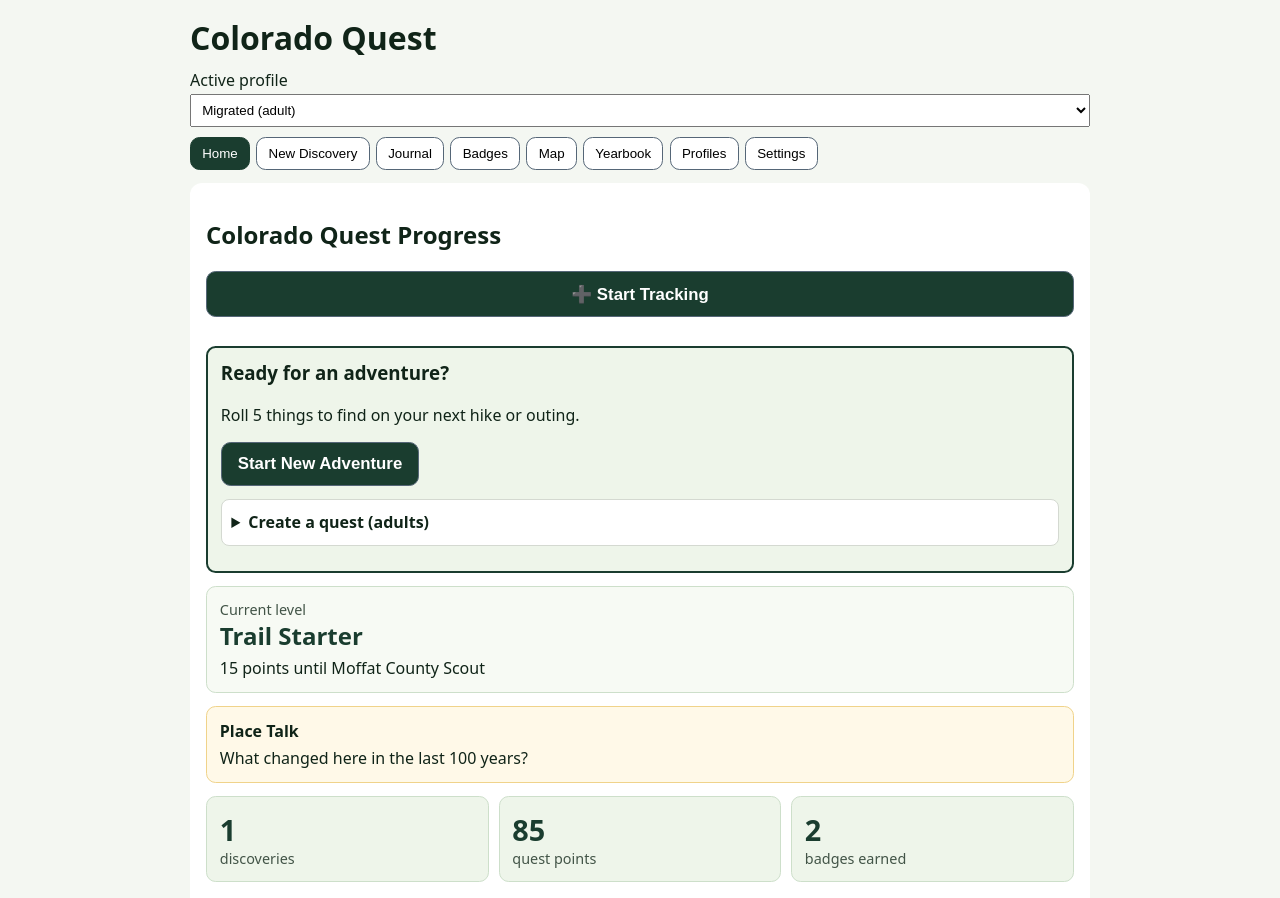
Test: storage › migrates legacy localStorage data into IndexedDB on first load
Legacy data is visible in the app…
Click the button "Journal". click: (410, 153)
box: [376,137,444,170]
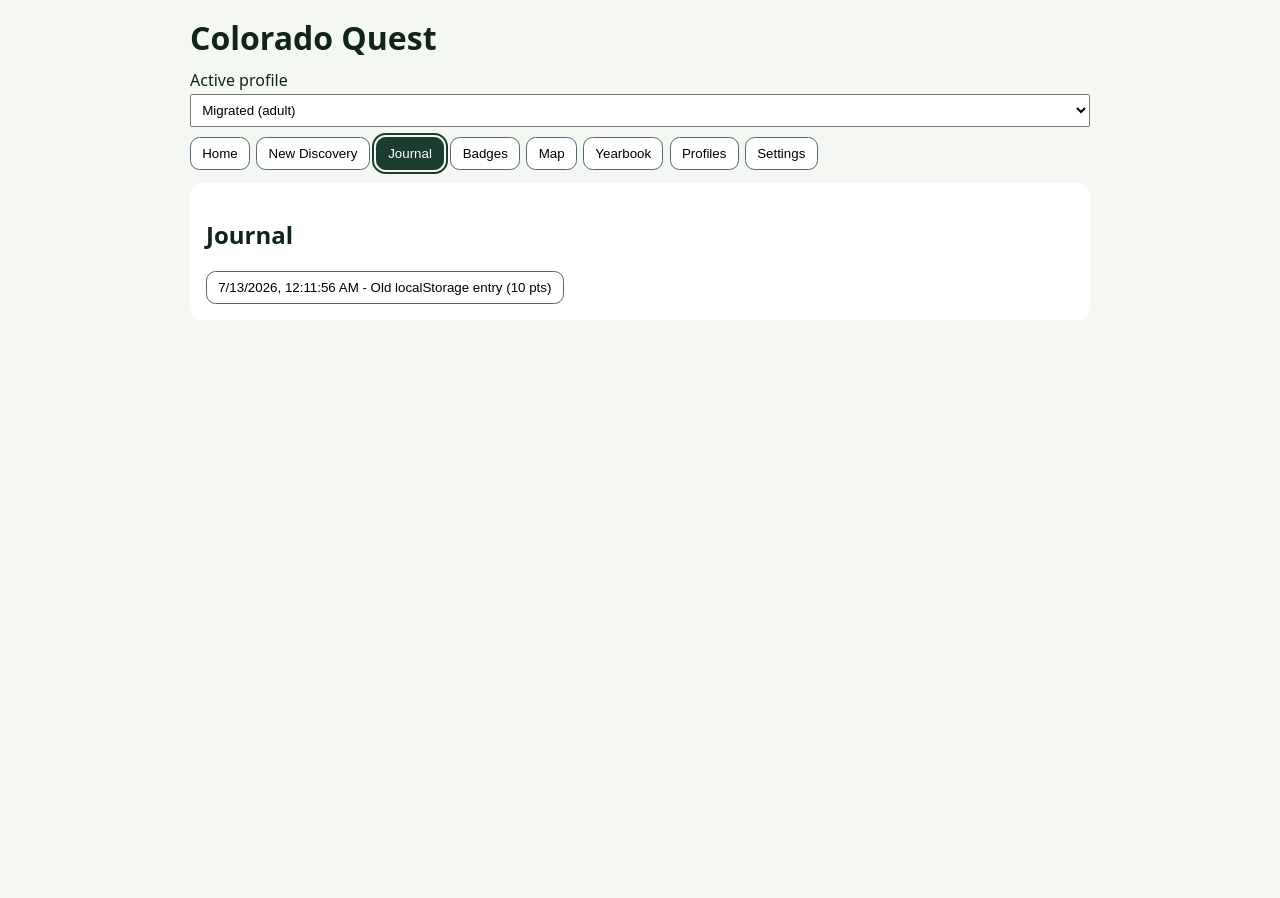
Expected: the button "7/13/2026, 12:11:56 AM - Old localStorage entry (10 pts)" is shown, [206,271,564,304]
